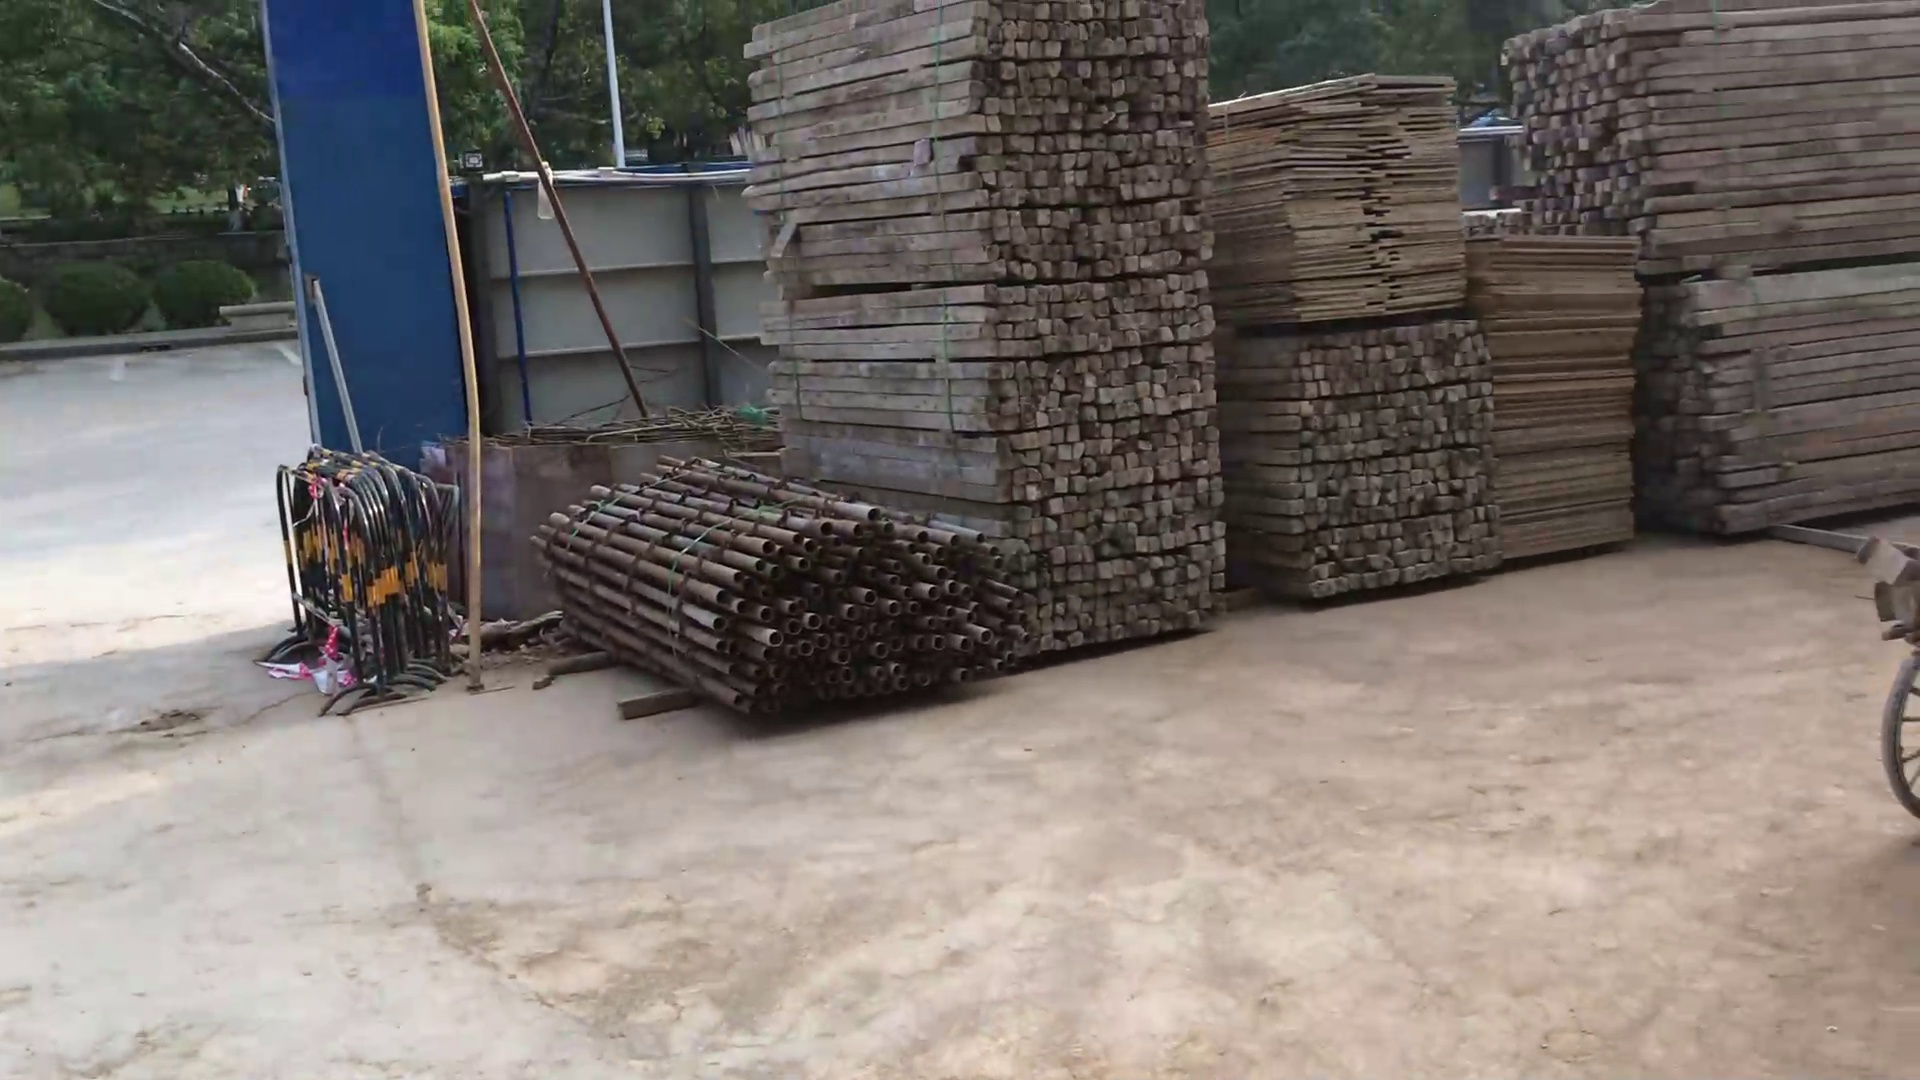board: (1208, 70, 1470, 323), (1466, 233, 1650, 563)
scaffold: (527, 450, 1022, 719)
wood: (741, 1, 1226, 657), (1505, 7, 1920, 276), (1230, 319, 1497, 605), (1642, 276, 1920, 535)
